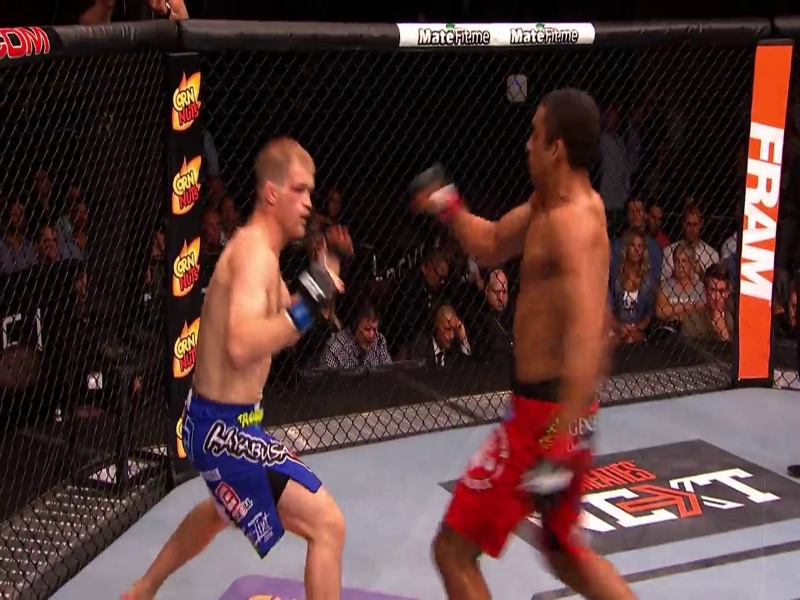fighter: (392, 80, 688, 600), (113, 140, 351, 600)
